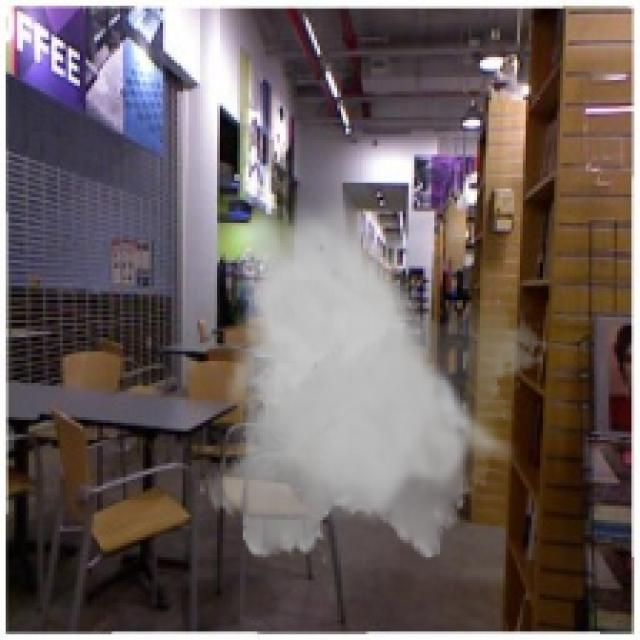smoke: (197, 188, 552, 568)
